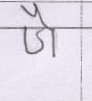au_matra: (27, 4, 63, 55)
